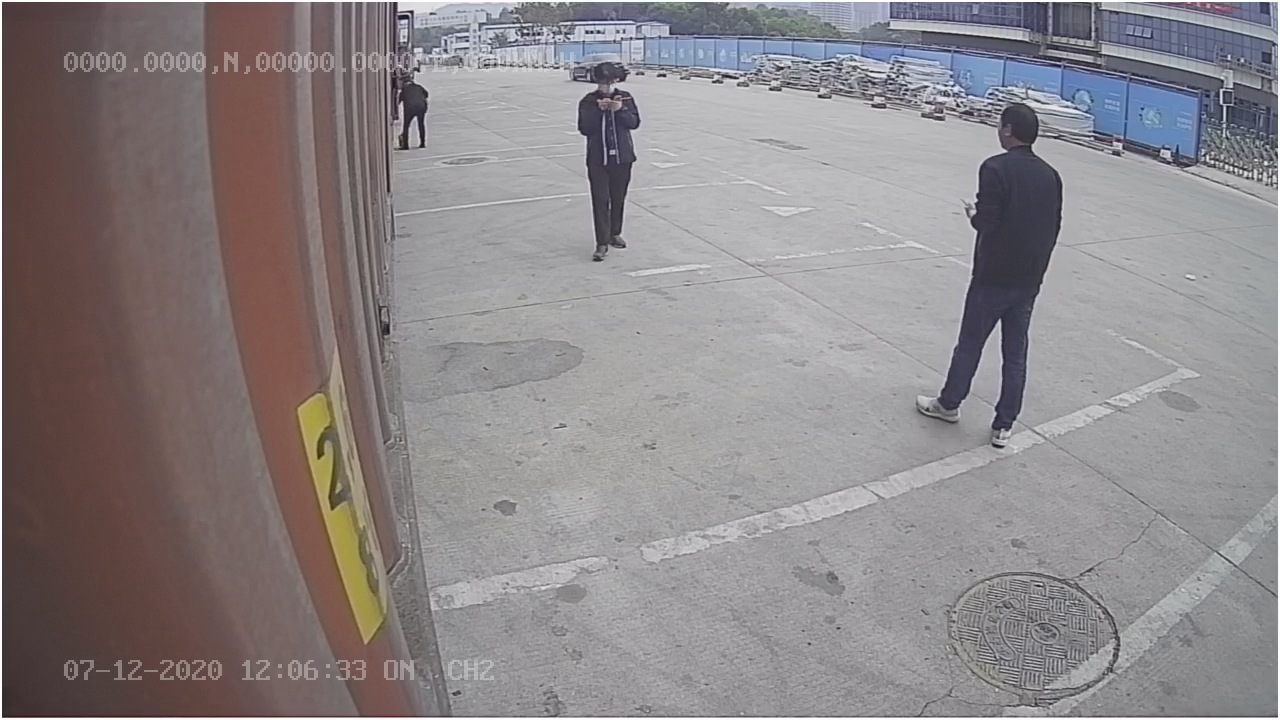person: (913, 95, 1066, 447)
